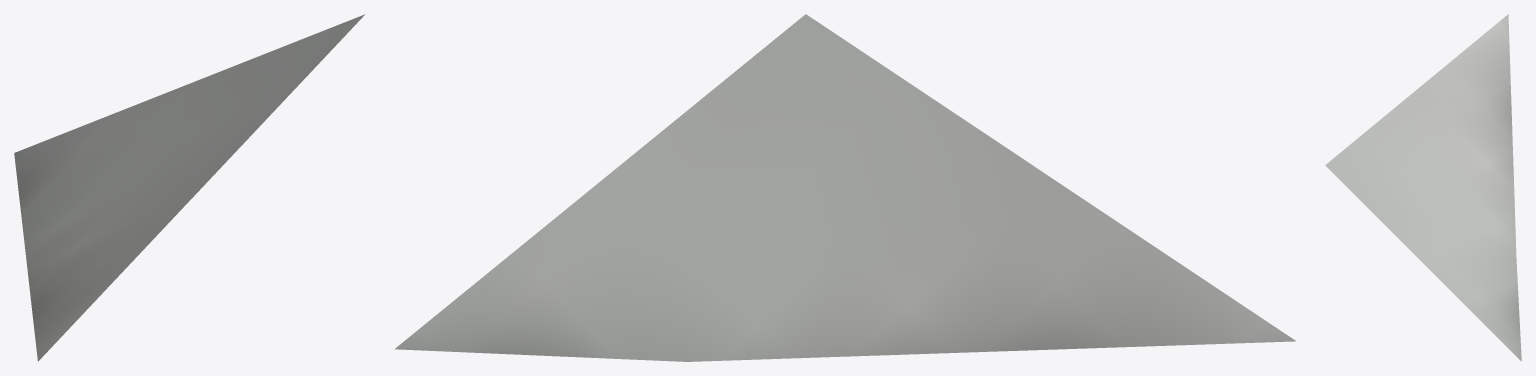
The model's file is midPoint5-transformed.glb.
3 renders of one model, left to right at view 1: azimuth 90°, elevation 25°; view 2: azimuth 150°, elevation 25°; view 3: azimuth 270°, elevation 25°, orthographic. The views are drawn at different scales.
Visible parts, largest first — view 1: Tile_30.002; view 2: Tile_30.002; view 3: Tile_30.002.
Boxes of the visible parts, left/top/right/bottom form: Tile_30.002: left=14, top=14, right=365, bottom=361; Tile_30.002: left=394, top=14, right=1295, bottom=361; Tile_30.002: left=1325, top=14, right=1521, bottom=361.
Bounding box in the file's own units: 0.2714 × 0.0747 × 0.097.
1 material, 1 textured.
